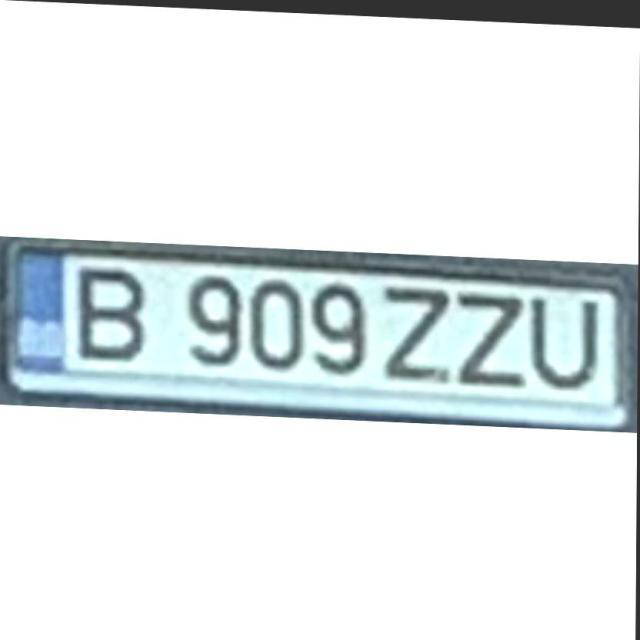license-plates: (0, 240, 636, 430)
